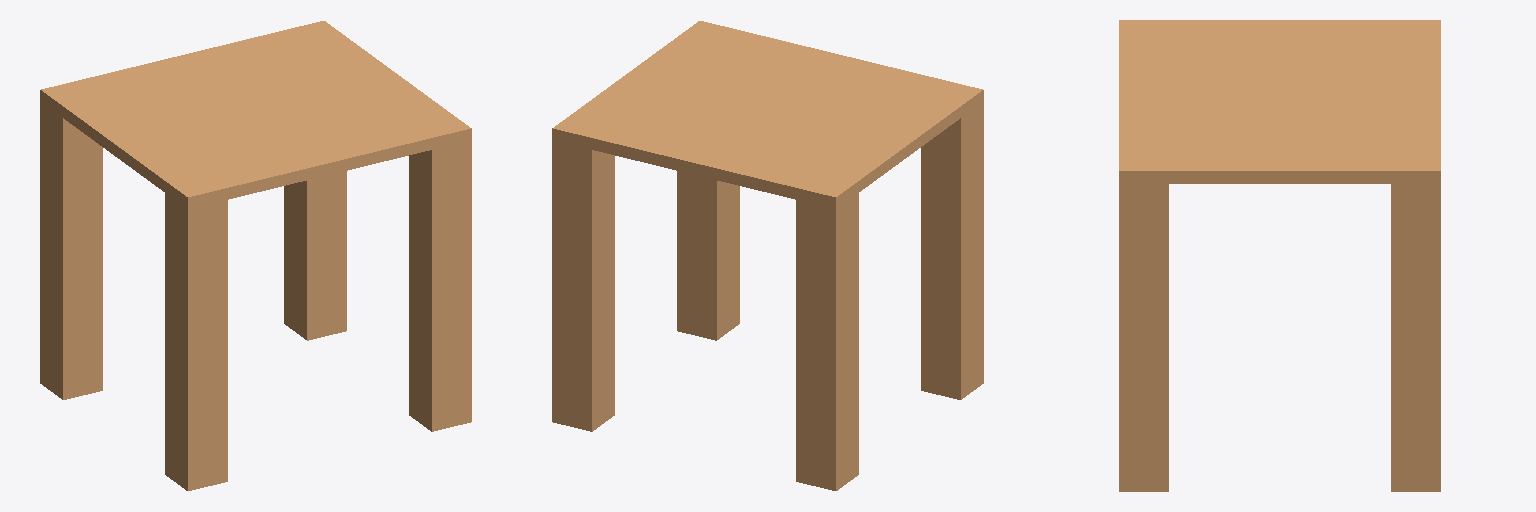
The robot description file, URDF, robot "workpiece_table":
<?xml version="1.0"?>
<robot name="workpiece_table">
  <link name="workpiece_table_origin">
    <visual>
      	<geometry>
          	<mesh filename="package://process_visualizer/resources/table_workpiece.stl"
                scale="1 1 1"/>
      	</geometry>
	  	<material name="ABS" >
          	<color rgba="0.9 0.7 0.5 1.0" />
         </material> 	
    </visual>
    <inertial>
      <origin xyz="0 0 1" rpy="0 0 0"/>
      <mass value="1"/>
      <inertia
        ixx="1.0" ixy="0.0" ixz="0.0"
        iyy="1.0" iyz="0.0"
        izz="1.0"/>
    </inertial>

  </link>
  <link name="world"/>

  <joint name="fixed" type="fixed">
    <parent link="world"/>
    <child link="workpiece_table_origin"/>
  </joint>

</robot>

--- What the picture shows (computed from the rendered views, not written in the file) ---
3 views of the same robot in one strip: view 1: azimuth 30°, elevation 25°; view 2: azimuth 150°, elevation 25°; view 3: azimuth 270°, elevation 25° (orthographic).
Model workpiece_table with 2 links and 1 joints (1 fixed), rooted at world, posed all joints at 0.
Links seen in each view (by area): view 1: workpiece_table_origin; view 2: workpiece_table_origin; view 3: workpiece_table_origin.
Link boxes in pixels (<box>): workpiece_table_origin: <box>40,21,471,490</box>; workpiece_table_origin: <box>552,21,983,490</box>; workpiece_table_origin: <box>1119,20,1440,491</box>.
Size in the robot's own frame: 0.5 by 0.45 by 0.495 metres.
Meshes: 1 distinct files referenced, 1 mesh visuals loaded (1 binary STL).